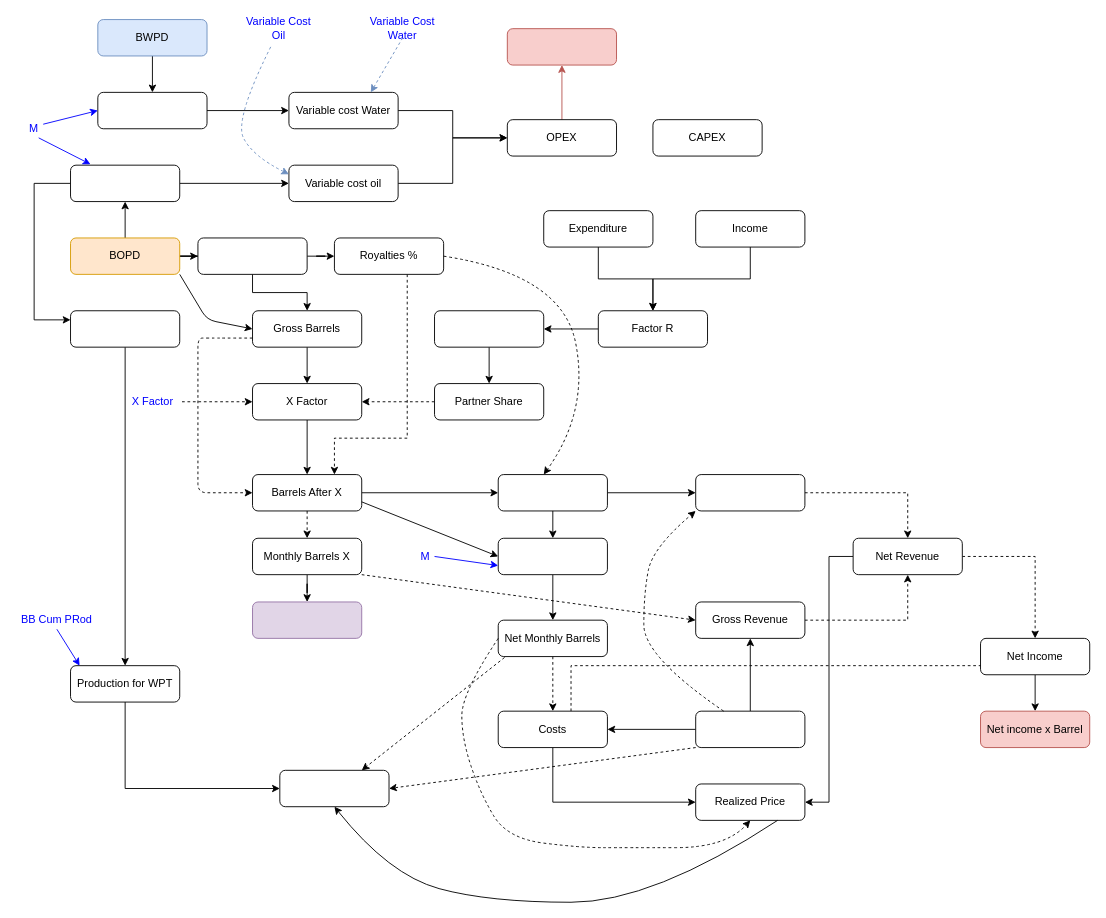
The diagram is 1106 pixels wide and 918 high, and some of its shapes have lost their labels. Here are the shapes that lost their labels. From the top down, the box of each, then its label:
(506, 28, 617, 65): OPEX x Barril
(97, 91, 207, 129): Monthly Water
(70, 164, 180, 202): Monthly Barrels
(197, 237, 307, 274): Royalties [B]
(70, 310, 180, 347): Cumulative Barrels
(434, 310, 544, 347): % Share
(497, 474, 607, 511): Royalties Over X Barrels
(695, 474, 805, 511): Royalties $
(497, 537, 607, 575): Net Barrels
(252, 601, 362, 638): Cumulative X Barrels
(695, 710, 805, 748): Price
(279, 769, 389, 807): Windfall Profitt Tax
